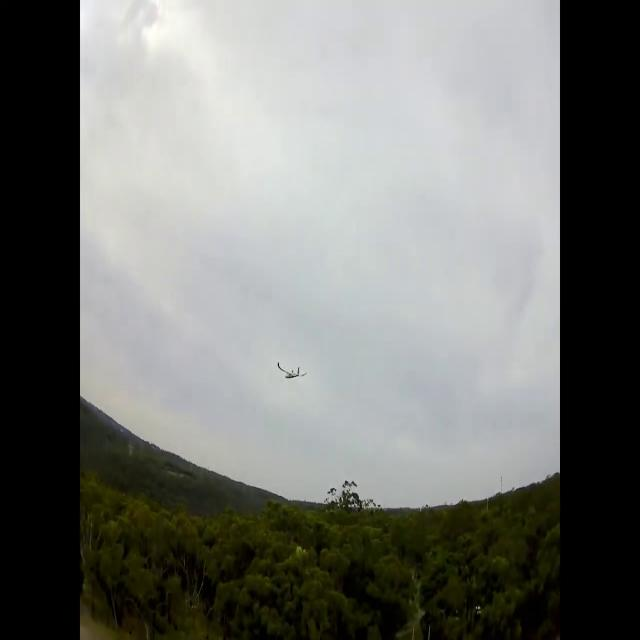iha: (277, 361, 307, 379)
